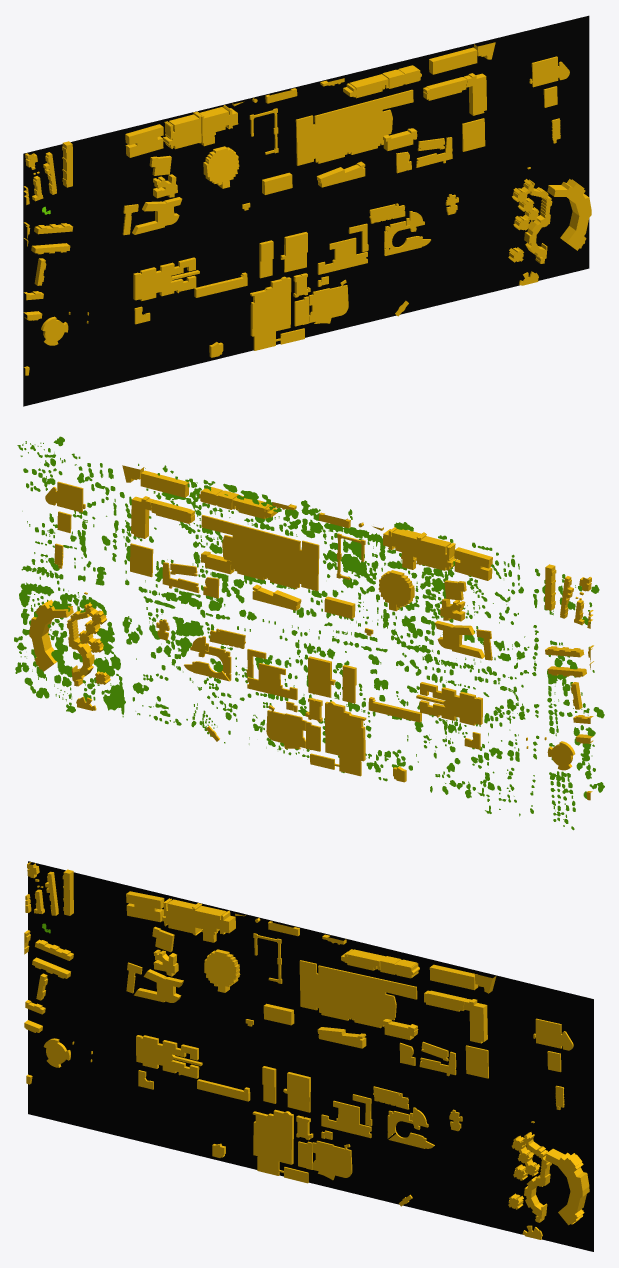
The model's file is new_trees_03.glb.
3 views of the same model, one above another, from view 1: azimuth 30°, elevation 25°; view 2: azimuth 150°, elevation 25°; view 3: azimuth 330°, elevation 25° (orthographic).
Parts seen in each view (by area): view 1: Layer 04, existing_building - Copy; view 2: existing_building - Copy, new trees, treesurface; view 3: Layer 04, existing_building - Copy.
Part boxes in pixels (left/top/right/bottom): Layer 04: left=23, top=15, right=589, bottom=406; existing_building - Copy: left=23, top=42, right=591, bottom=375; existing_building - Copy: left=29, top=465, right=593, bottom=800; new trees: left=25, top=441, right=585, bottom=822; treesurface: left=14, top=436, right=604, bottom=830; Layer 04: left=28, top=861, right=593, bottom=1251; existing_building - Copy: left=24, top=862, right=589, bottom=1239.
Size of the model in its own units: 1035 by 458 by 20.85.
